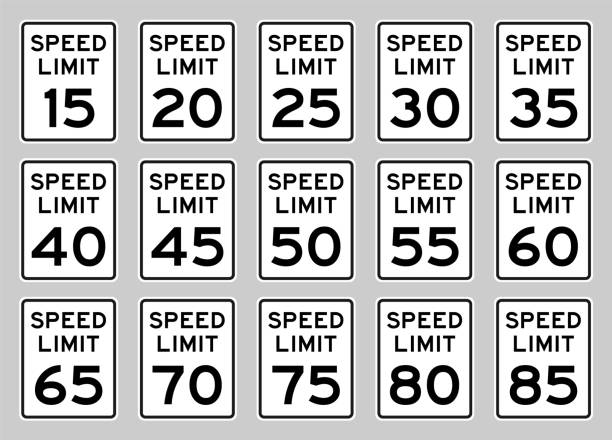SpeedLimitSign: (17, 18, 117, 143), (136, 20, 237, 143), (255, 18, 354, 142), (138, 298, 238, 420), (493, 20, 592, 143), (375, 297, 473, 421), (255, 300, 355, 421), (375, 160, 473, 282), (374, 19, 471, 142), (493, 298, 590, 420), (493, 161, 591, 281), (18, 300, 116, 420), (20, 161, 116, 283), (256, 161, 354, 279), (138, 162, 235, 280)
